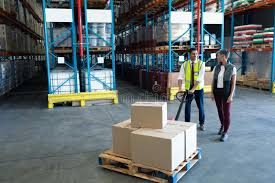Pallet Jack: (98, 90, 203, 183)
